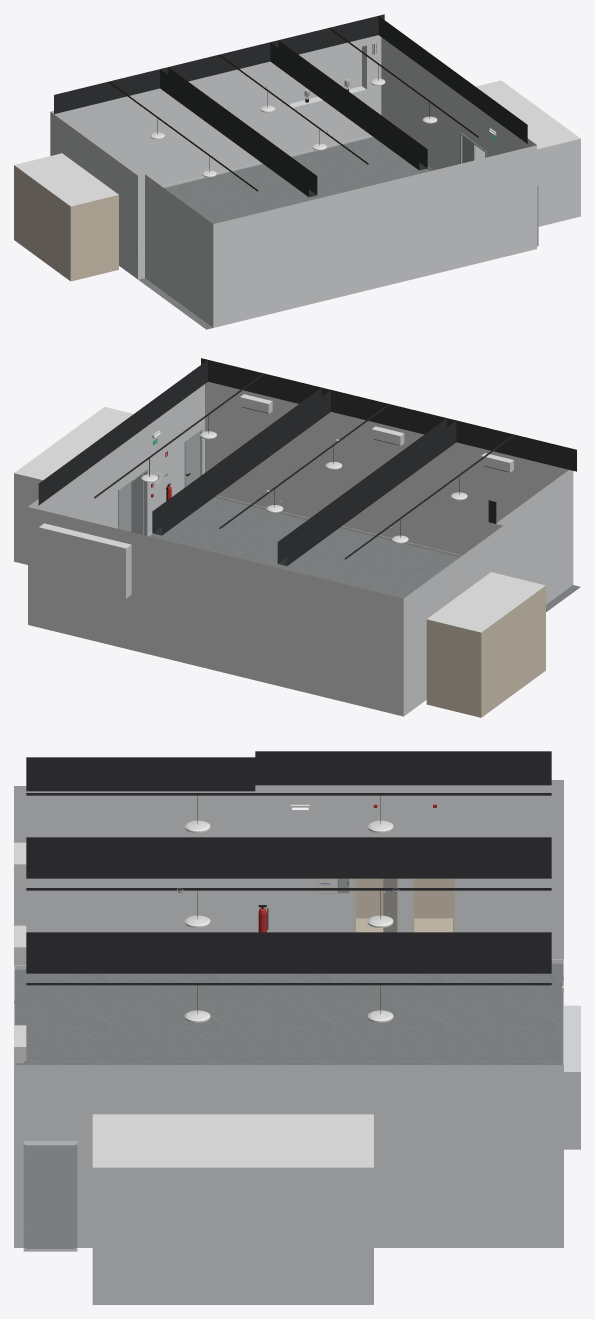
The model's file is salao.glb.
3 views of the same model, one above another, from view 1: azimuth 30°, elevation 25°; view 2: azimuth 150°, elevation 25°; view 3: azimuth 270°, elevation 25° (orthographic). The views are drawn at different scales.
Parts seen in each view (by area): view 1: Sala, Chao, Objetos; view 2: Sala, Chao, Objetos; view 3: Sala, Chao, Objetos.
Part boxes in pixels (x1,y1,x2,y2): Sala: (14,14,580,327); Chao: (138,137,429,329); Objetos: (135,42,496,248); Sala: (14,358,576,717); Chao: (149,497,580,611); Objetos: (118,394,513,543); Sala: (14,751,580,1304); Chao: (14,963,563,1247); Objetos: (14,796,563,1248).
Bounding box in the file's own units: 16.3 × 4.27 × 10.1.
21 materials, 7 textured.
